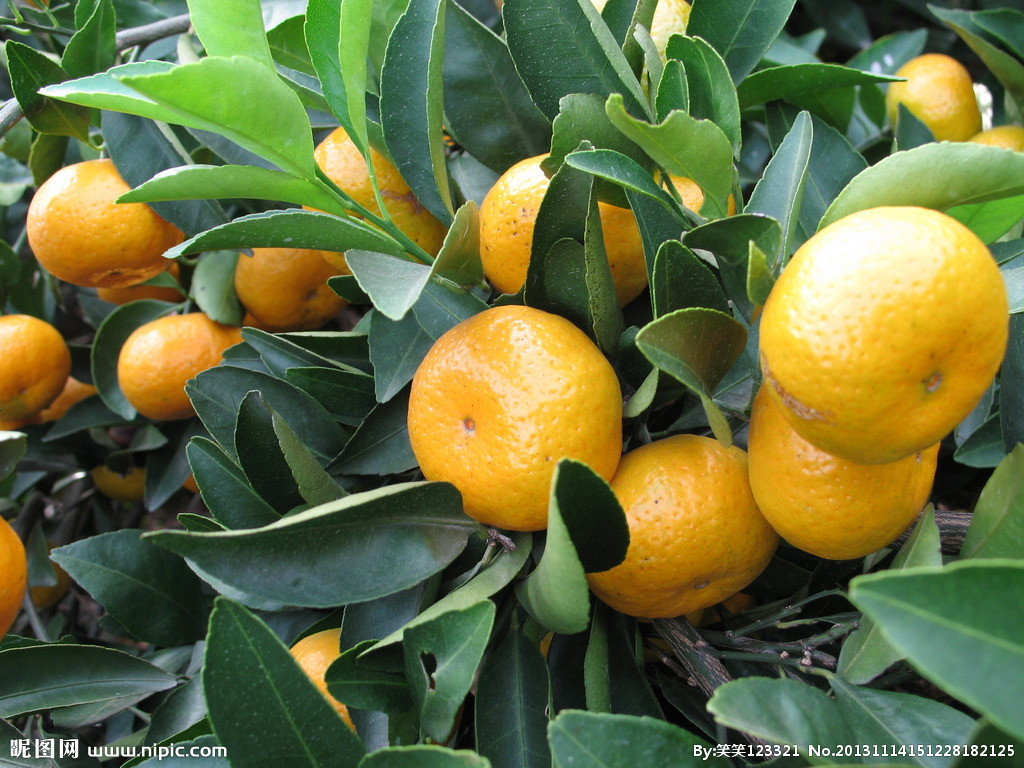orange: (761, 206, 1009, 459), (407, 302, 624, 529), (580, 428, 778, 618), (745, 374, 937, 555), (477, 146, 668, 309), (306, 117, 462, 274), (28, 156, 186, 290), (236, 216, 373, 332), (117, 311, 253, 421), (269, 623, 377, 742), (884, 53, 983, 150), (1, 314, 72, 421), (1, 504, 32, 645)
